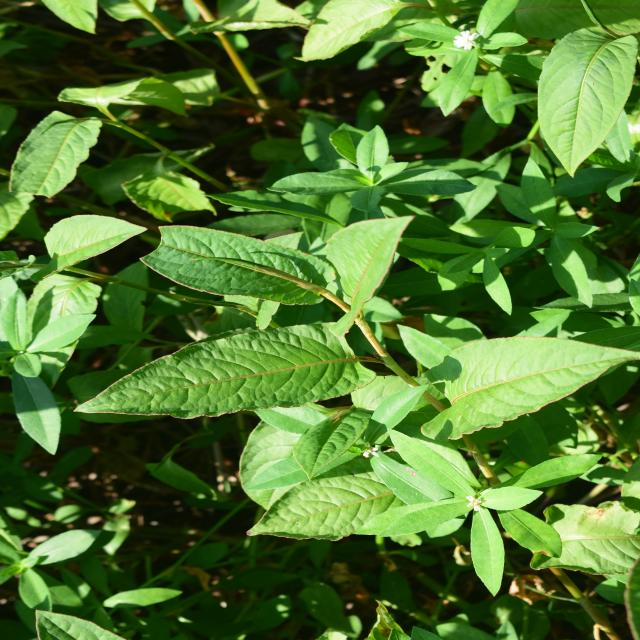Chinese_knotweed: (206, 75, 428, 448)
